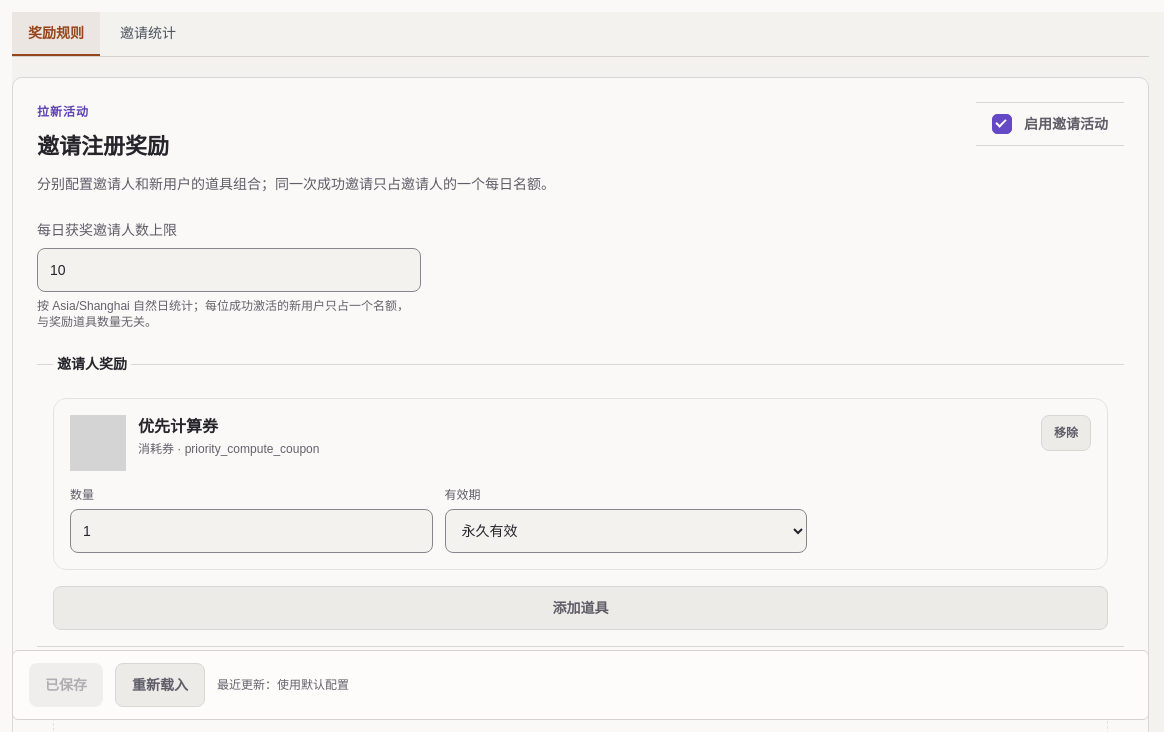
Test case: InvitationSettingsSection › shows invitation totals, activation rate, reward states and today counts
Click the tab "邀请统计": (148, 34) [104, 12, 192, 56]
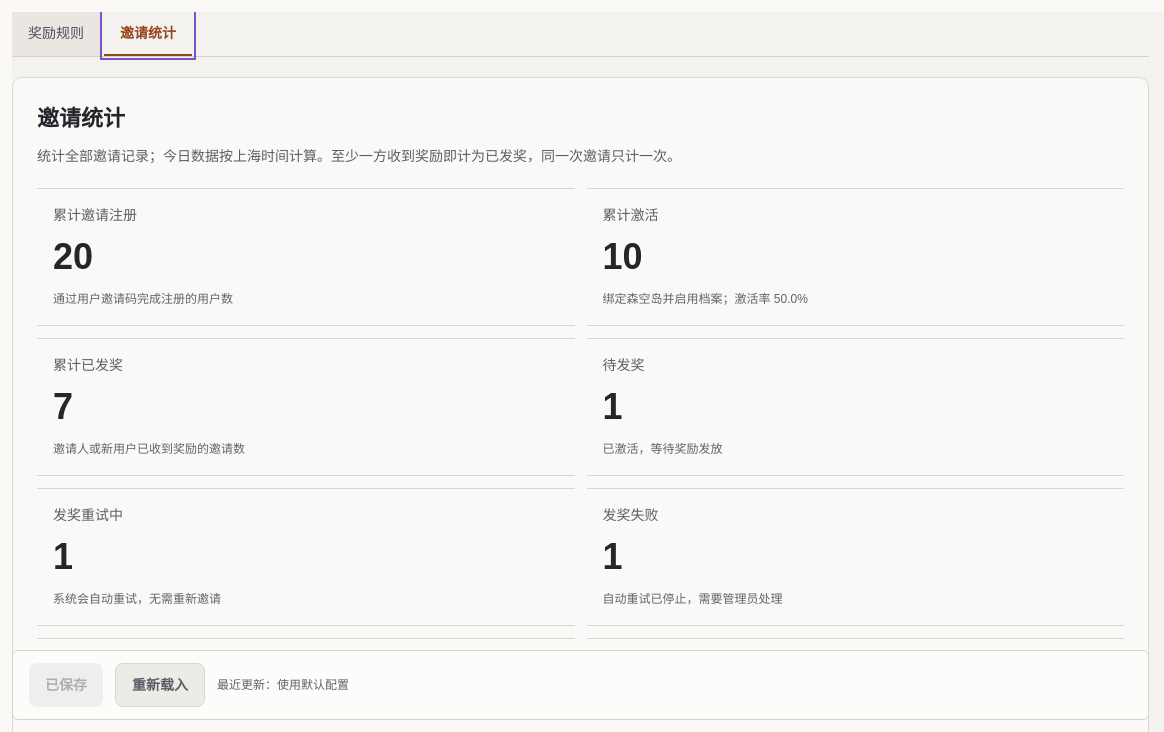
Check: the text "20" is shown, box [53, 236, 93, 277]
Check: the text "10" is shown, box [602, 236, 642, 277]
Check: the text "7" is shown, box [53, 386, 73, 427]
